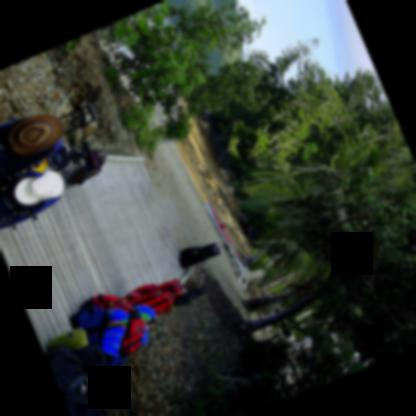backpack: (0, 169, 63, 230), (115, 308, 145, 367), (69, 145, 109, 187)
handbag: (91, 368, 119, 405), (45, 327, 87, 351)
suitcase: (0, 103, 95, 181), (44, 347, 103, 416), (121, 275, 186, 302), (177, 241, 221, 270), (129, 292, 173, 312)
